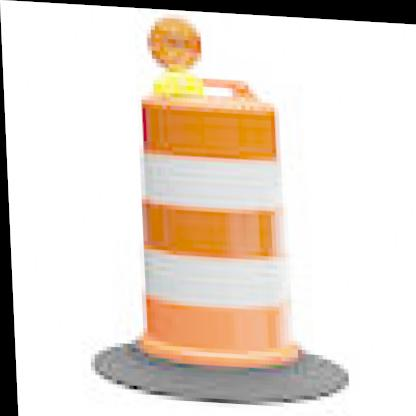obstacle: (111, 80, 320, 376)
